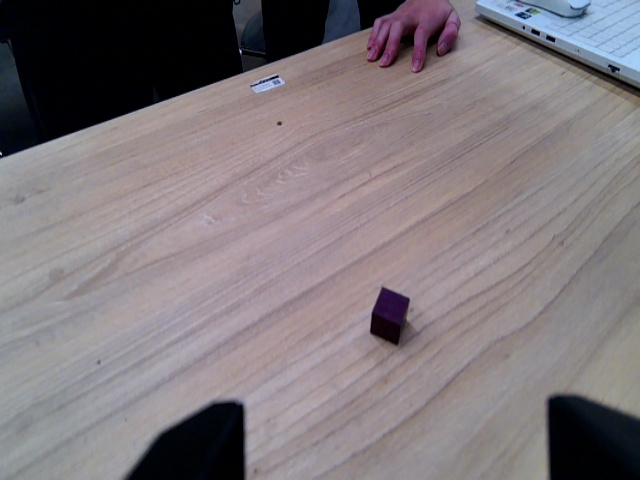brick: (366, 286, 412, 346)
